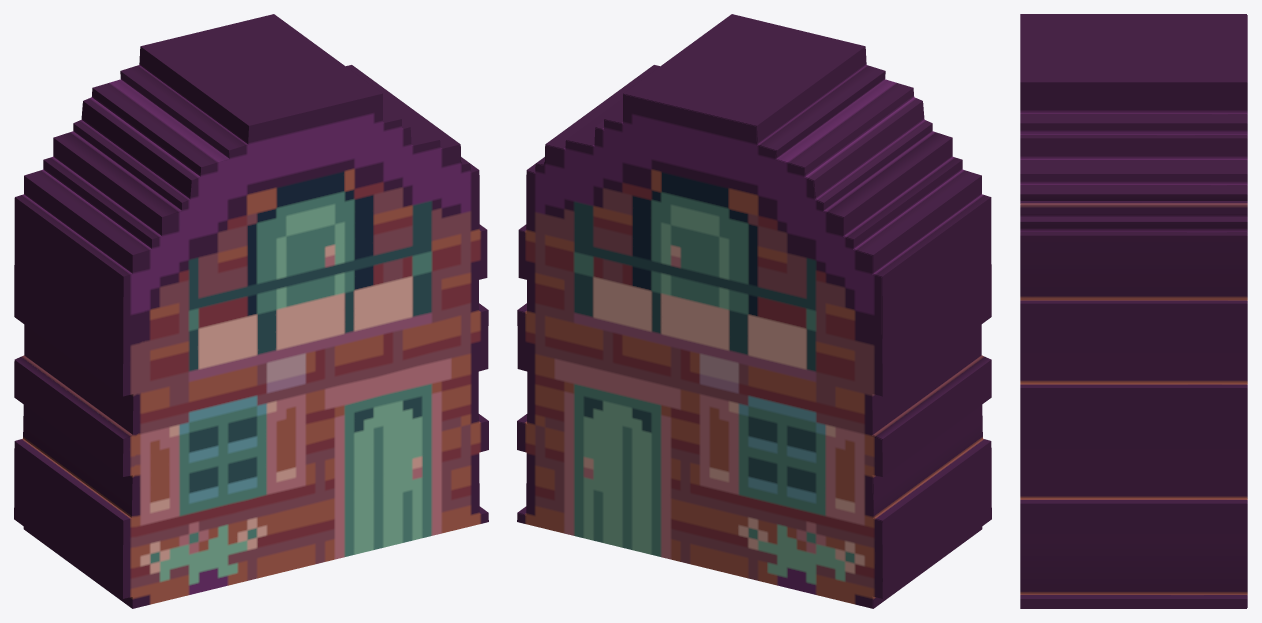
The model's file is house.fbx.
3 renders of one model, left to right at view 1: azimuth 30°, elevation 25°; view 2: azimuth 150°, elevation 25°; view 3: azimuth 270°, elevation 25°, orthographic. The views are drawn at different scales.
Parts seen in each view (by area): view 1: Empty.001; view 2: Empty.001; view 3: Empty.001.
Part boxes in pixels (x1,y1,x2,y2): Empty.001: (14, 14, 488, 608); Empty.001: (517, 14, 991, 608); Empty.001: (1020, 14, 1247, 608).
Size of the model in its own units: 394 by 467 by 203.
1 material, 1 textured.
